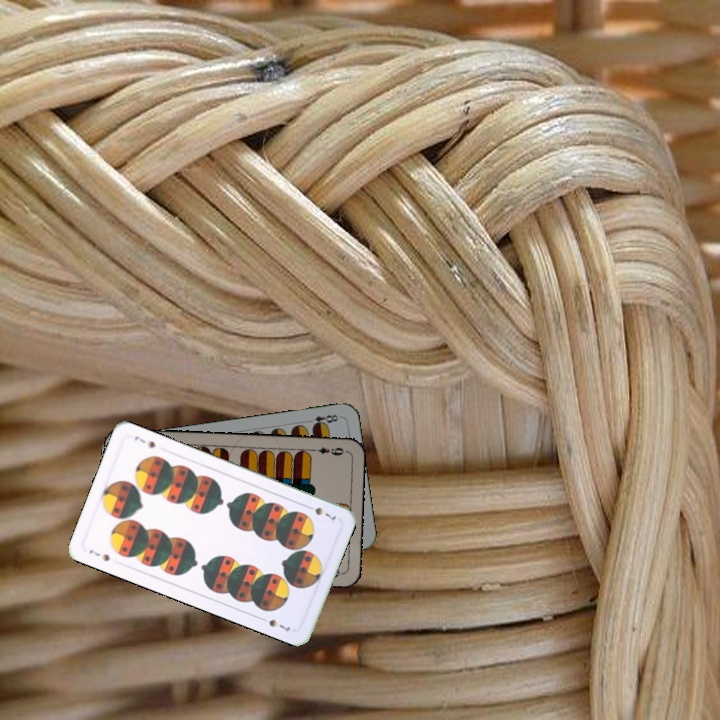E8: (302, 411, 343, 430)
E9: (308, 443, 349, 458)
S7: (302, 501, 339, 523), (85, 545, 112, 564)
